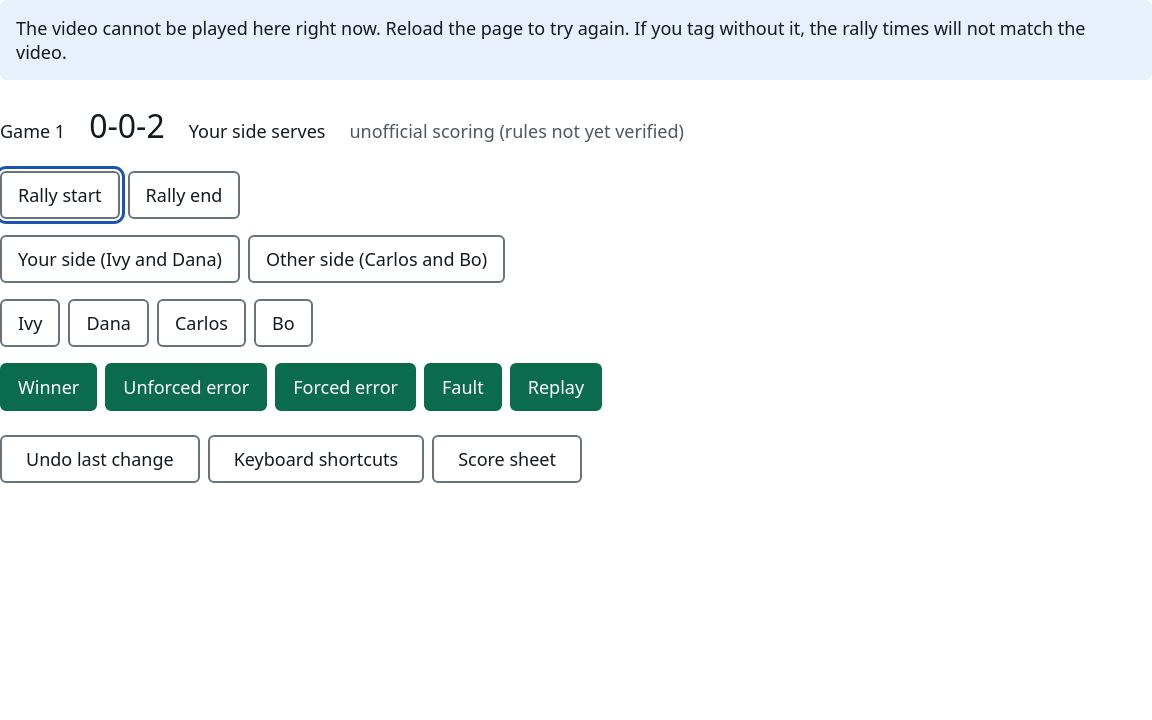
Keyboard tagging (ST-028a) › "?" shows every shortcut and what it does; closing returns focus
This screenshot has width=1152, height=720.
Type keys "?"
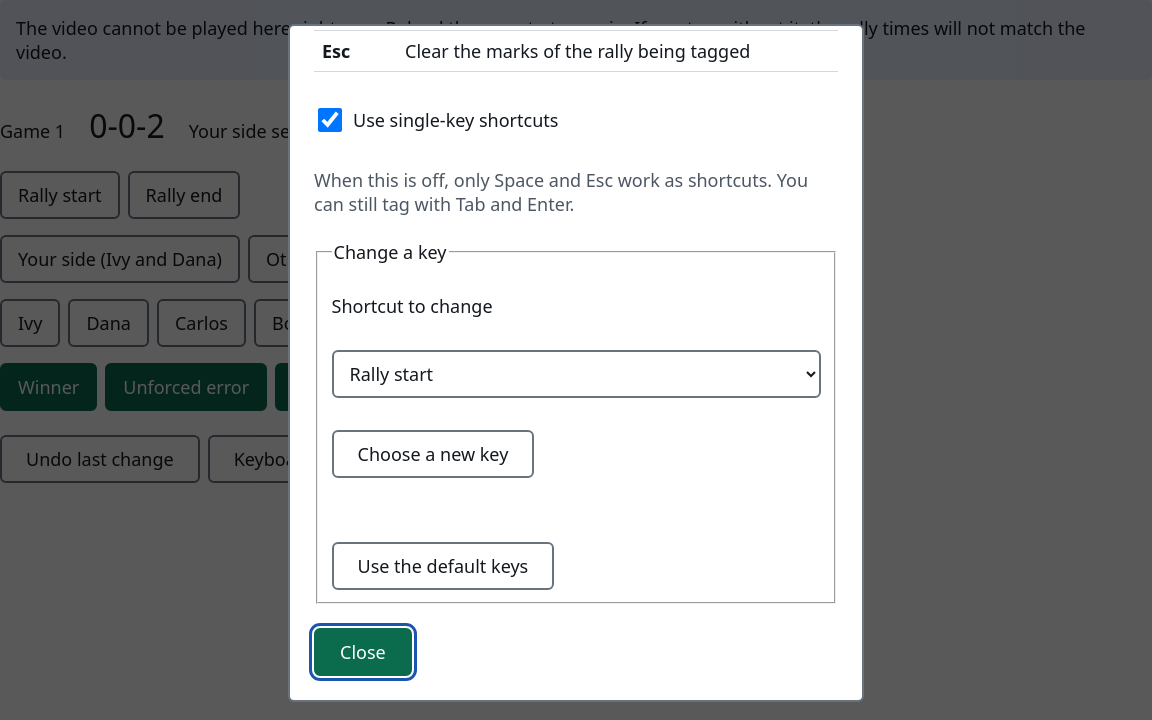
Click the button "Close" at {"x": 363, "y": 652}, box [314,628,412,676]
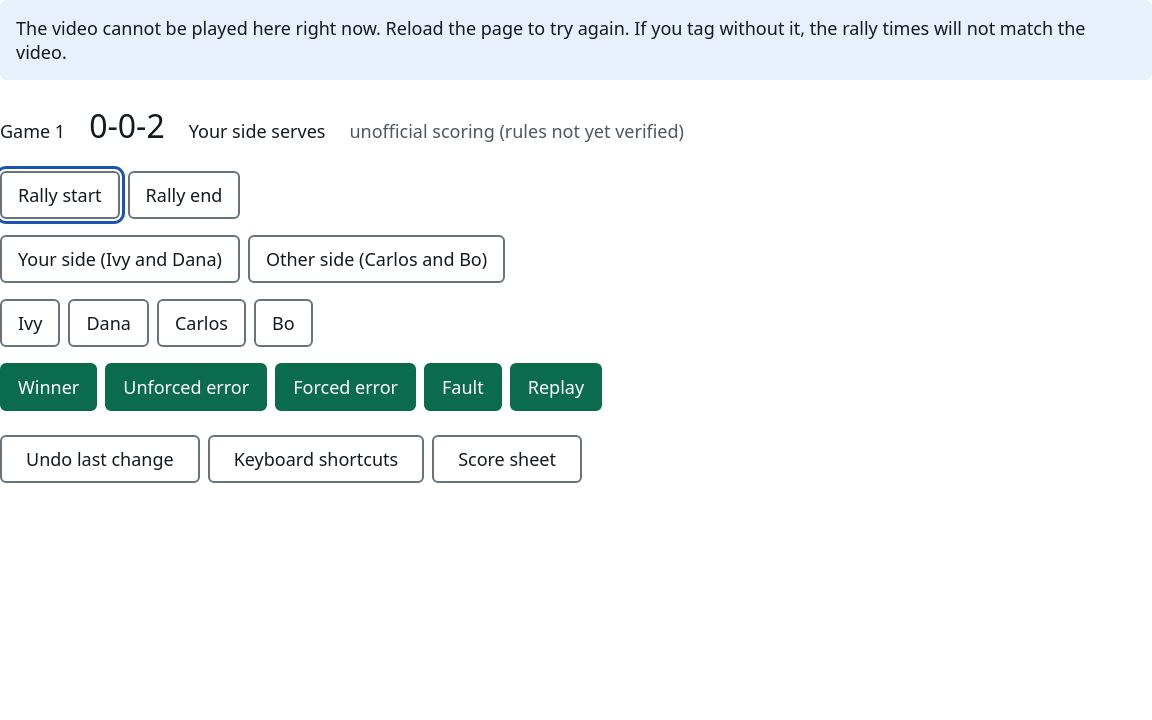
Result: the dialog is gone
